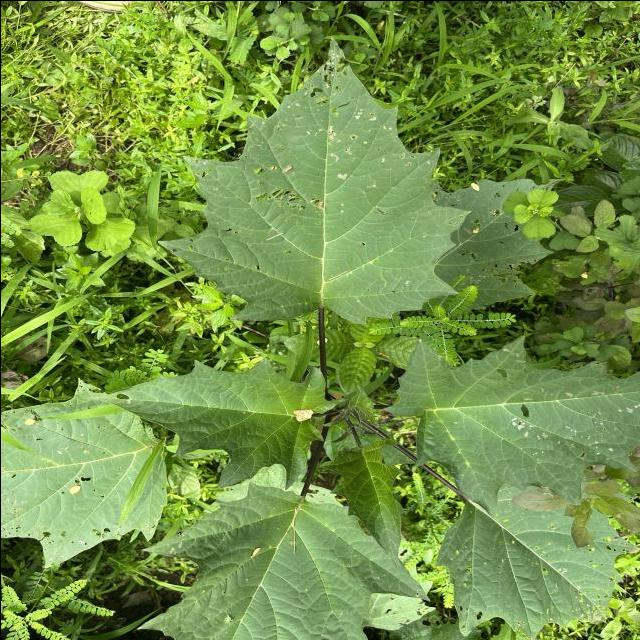Datura metal linn: (153, 33, 472, 328), (380, 332, 640, 520), (134, 477, 432, 640), (84, 354, 345, 492), (430, 479, 640, 640), (0, 374, 169, 573), (314, 436, 406, 574)
